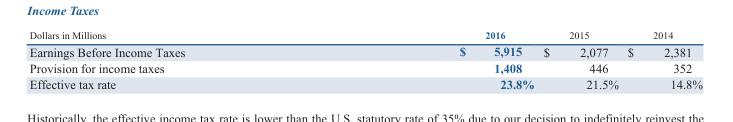table: (28, 29, 701, 90)
table column: (28, 29, 321, 90), (321, 29, 538, 90), (538, 29, 622, 90), (622, 29, 701, 90)
table column header: (28, 29, 701, 42)
table row: (28, 42, 701, 59), (28, 59, 701, 75), (28, 75, 701, 90), (28, 29, 701, 42)
